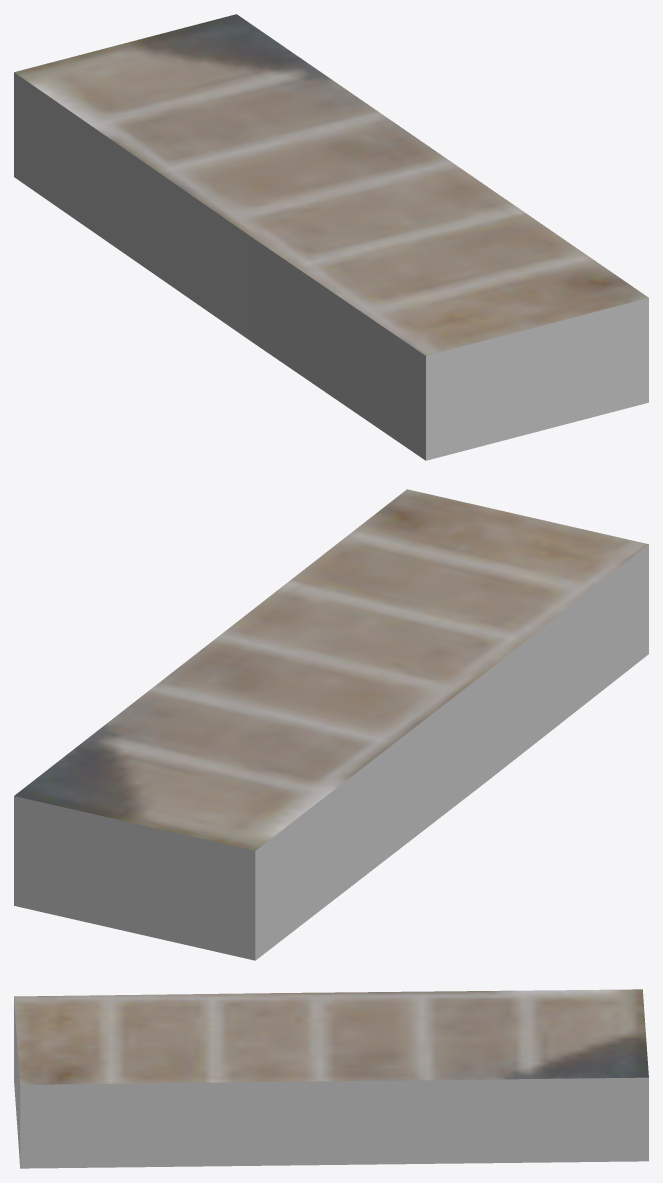
File: DEBW_0010007Tvkr.gltf
3 views of the same model, one above another, from view 1: azimuth 30°, elevation 25°; view 2: azimuth 150°, elevation 25°; view 3: azimuth 270°, elevation 25° (orthographic). The views are drawn at different scales.
Visible parts, largest first — view 1: Z_UP; view 2: Z_UP; view 3: Z_UP.
Boxes of the visible parts, x1,y1,x2,y2 form: Z_UP: (14,14,648,460); Z_UP: (14,489,648,960); Z_UP: (14,989,648,1168).
Bounding box in the file's own units: 6.21 × 2.54 × 17.45.
2 materials, 1 textured.
